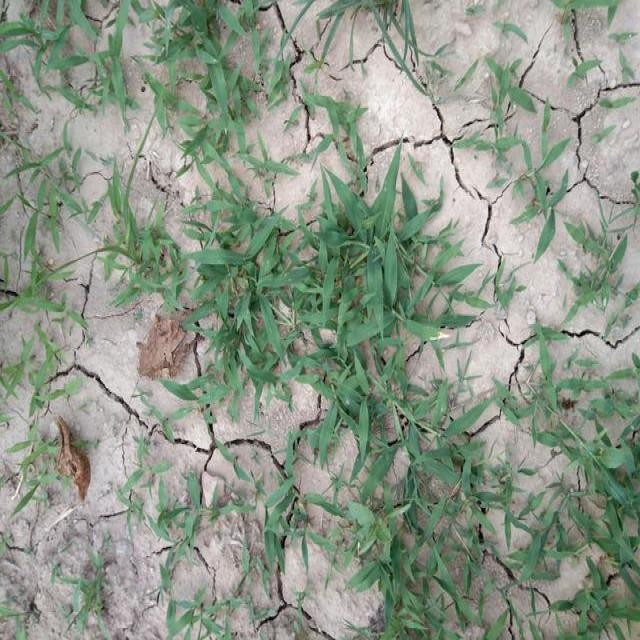weed: (309, 181, 455, 443), (526, 349, 632, 588), (179, 183, 296, 395), (340, 462, 478, 640), (152, 18, 271, 152)
